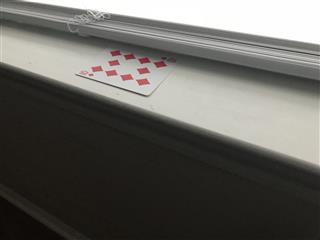TenOfDiamonds: (74, 44, 183, 96)
